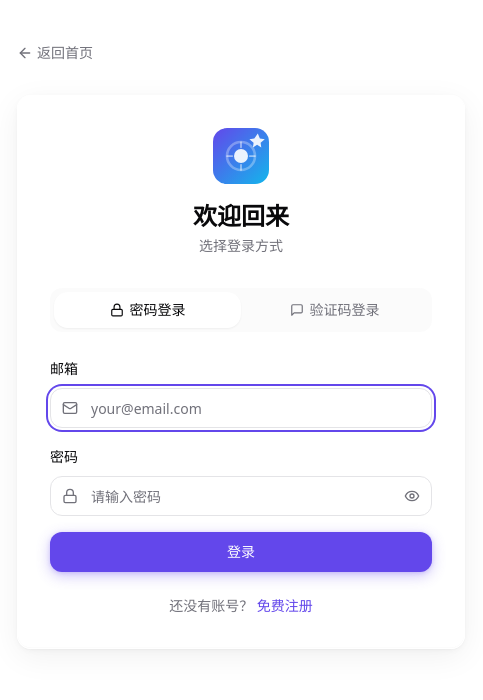
Scenario: 登录页面 - LoginPage › 密码登录 › 邮箱未确认时应显示邮箱验证提示
Type "unverified@example.com" into the field with test id "login-email".
click(241, 408); type("unverified@example.com")  # box [50, 388, 432, 428]
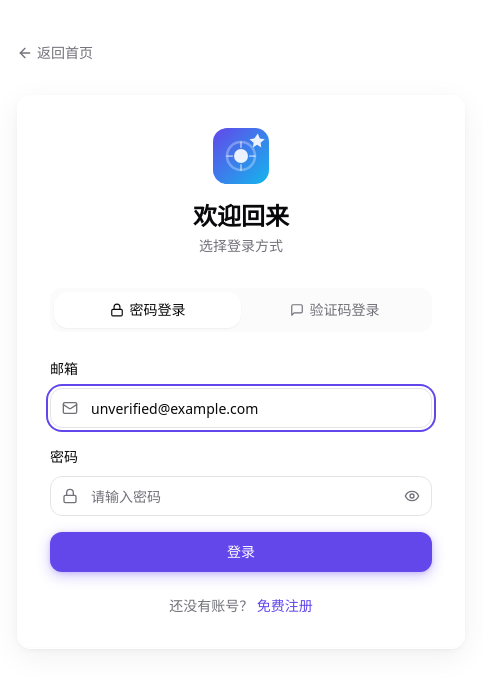
Type "Password123" into the password field with test id "login-password".
click(241, 496); type("Password123")  # box [50, 476, 432, 516]
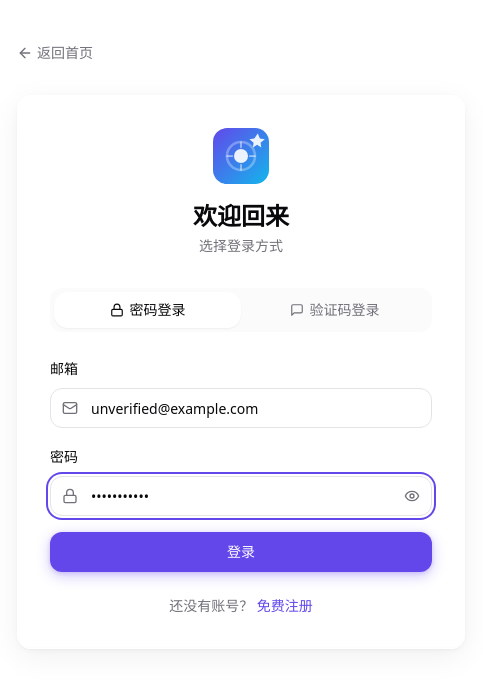
Click the button with test id "login-submit".
click(241, 552)  # box [50, 532, 432, 572]
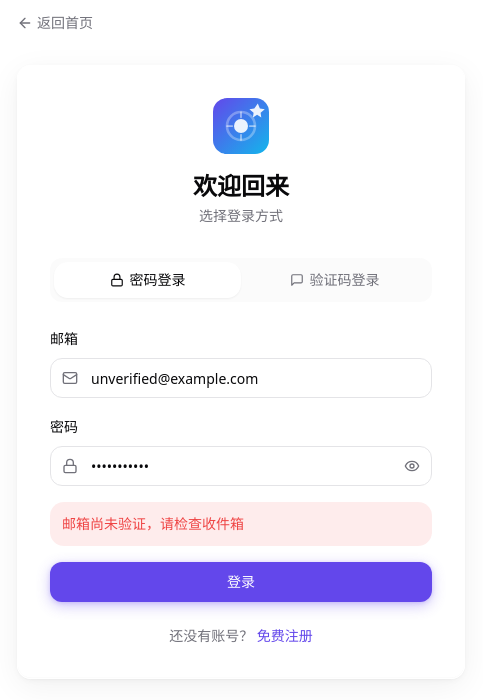
Result: the text with test id "login-error" reads "邮箱尚未验证，请检查收件箱" at [62, 514, 244, 533]
